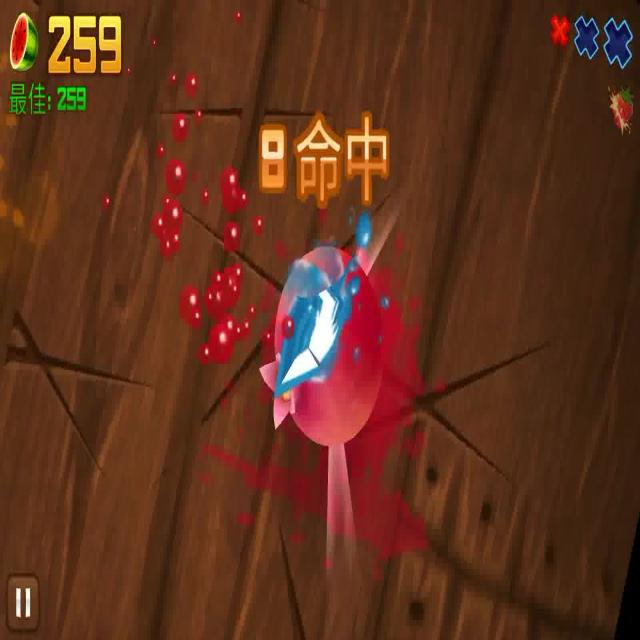fruit: (264, 241, 392, 459)
